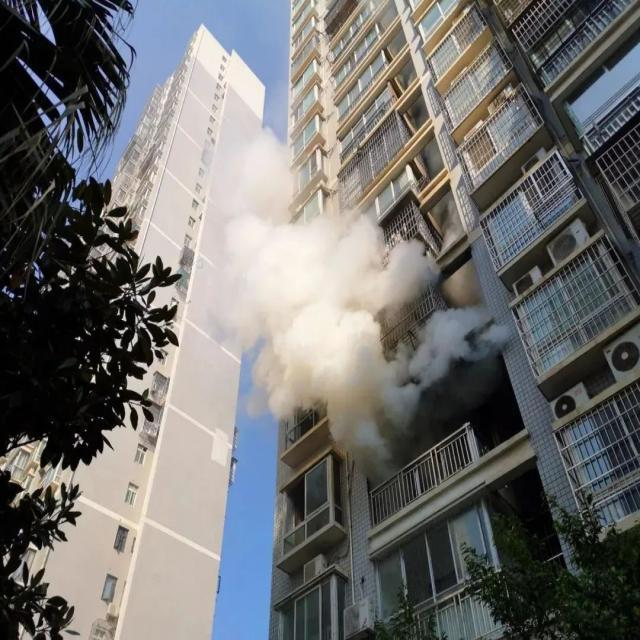Smoke: (222, 134, 497, 472)
